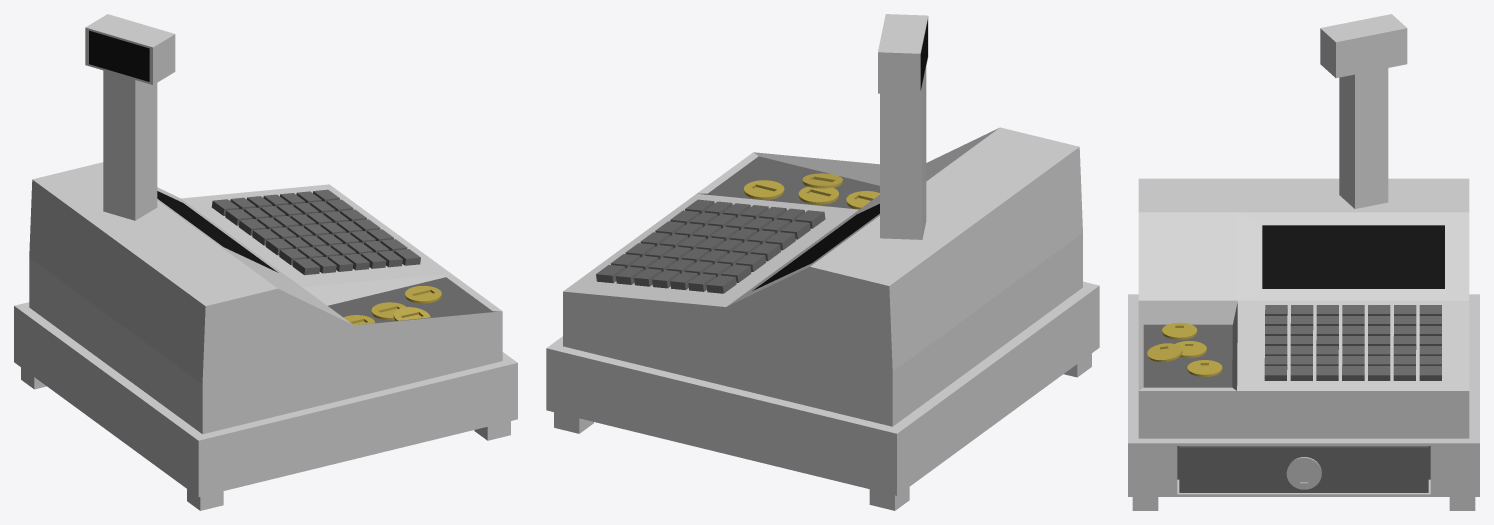
Rendered from Caisse.glb.
3 views of the same model, side by side, from view 1: azimuth 30°, elevation 25°; view 2: azimuth 150°, elevation 25°; view 3: azimuth 270°, elevation 25° (orthographic). The views are drawn at different scales.
Visible parts, largest first — view 1: Cube; view 2: Cube; view 3: Cube.
Boxes of the visible parts, <box> form: Cube: <box>14,14,517,510</box>; Cube: <box>546,14,1099,510</box>; Cube: <box>1128,14,1479,510</box>.
Bounding box in the file's own units: 1.01 × 1.13 × 1.
